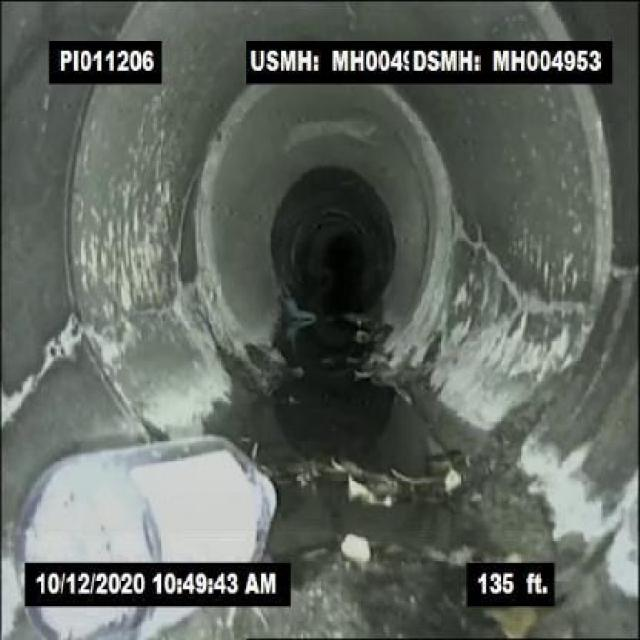Crack: (463, 232, 566, 317), (6, 320, 76, 422), (90, 298, 172, 344)
